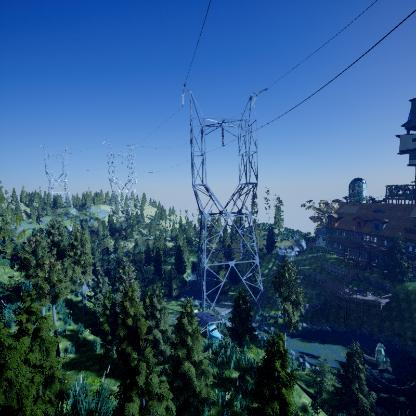tower: (182, 86, 268, 321), (100, 138, 140, 235), (37, 143, 75, 210)
